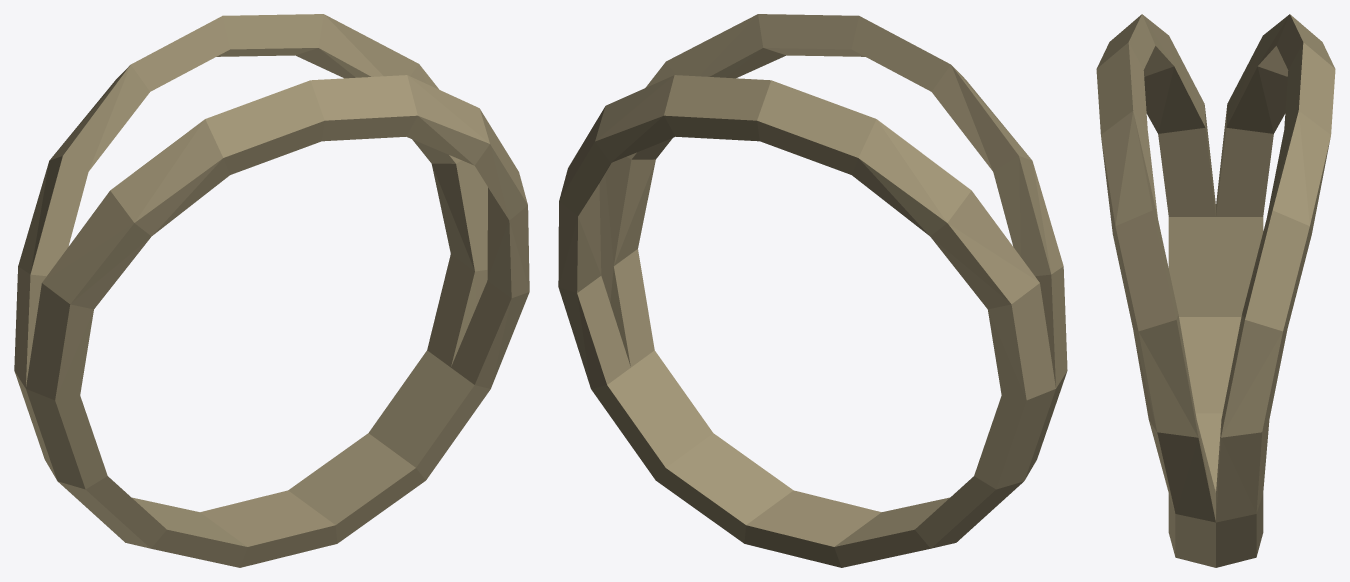
Rendered from ring.glb.
3 views of the same model, side by side, from view 1: azimuth 30°, elevation 25°; view 2: azimuth 150°, elevation 25°; view 3: azimuth 270°, elevation 25° (orthographic).
Bounding box in the file's own units: 1 × 0.9939 × 0.4314.
